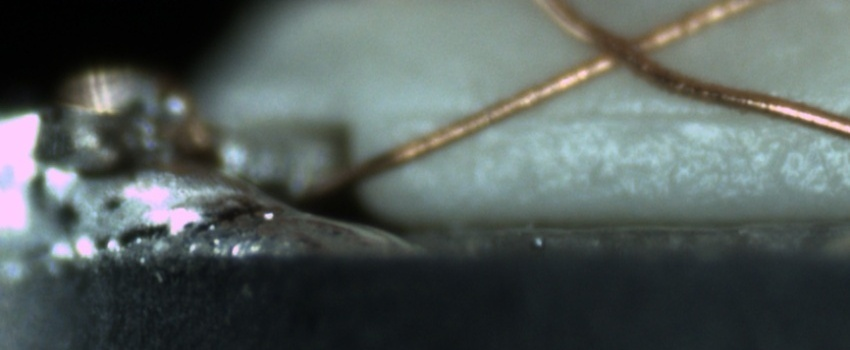CL: (564, 14, 673, 83)
DL: (405, 84, 849, 141)
